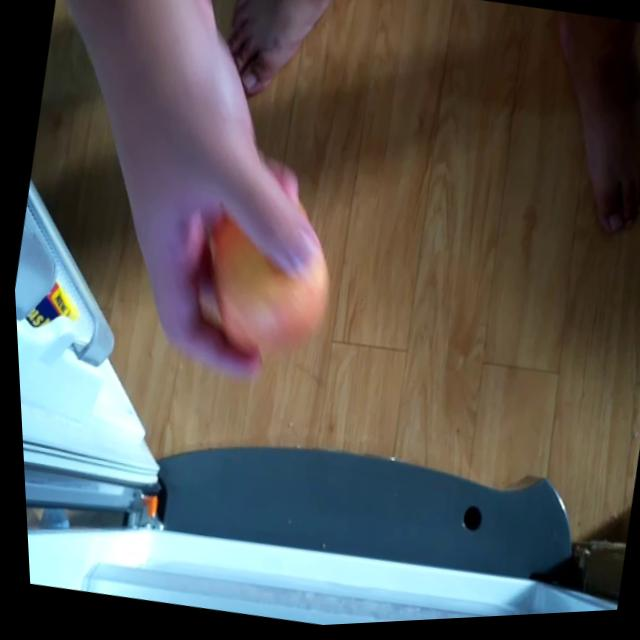apple: (188, 186, 346, 373)
